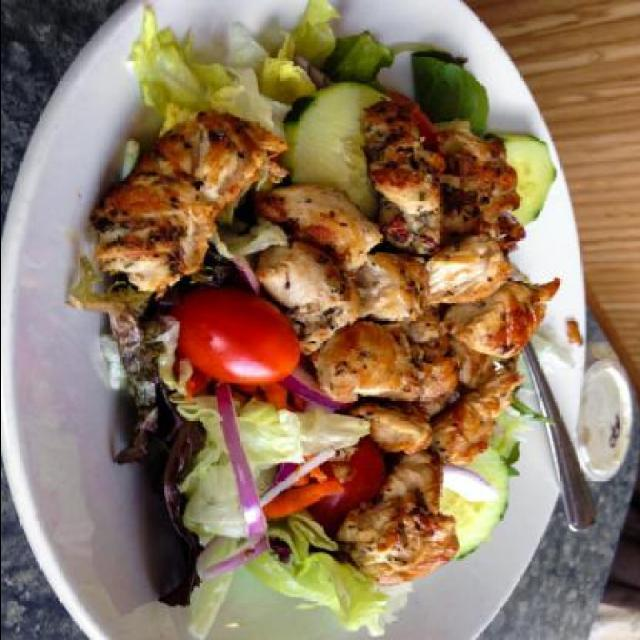Salad: (50, 0, 581, 640)
